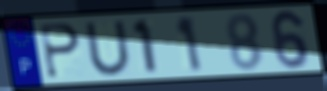1: (130, 18, 163, 75), (174, 15, 204, 75)
6: (270, 8, 310, 71)
8: (223, 11, 265, 72)
P: (38, 22, 83, 81)
U: (82, 19, 134, 78)
